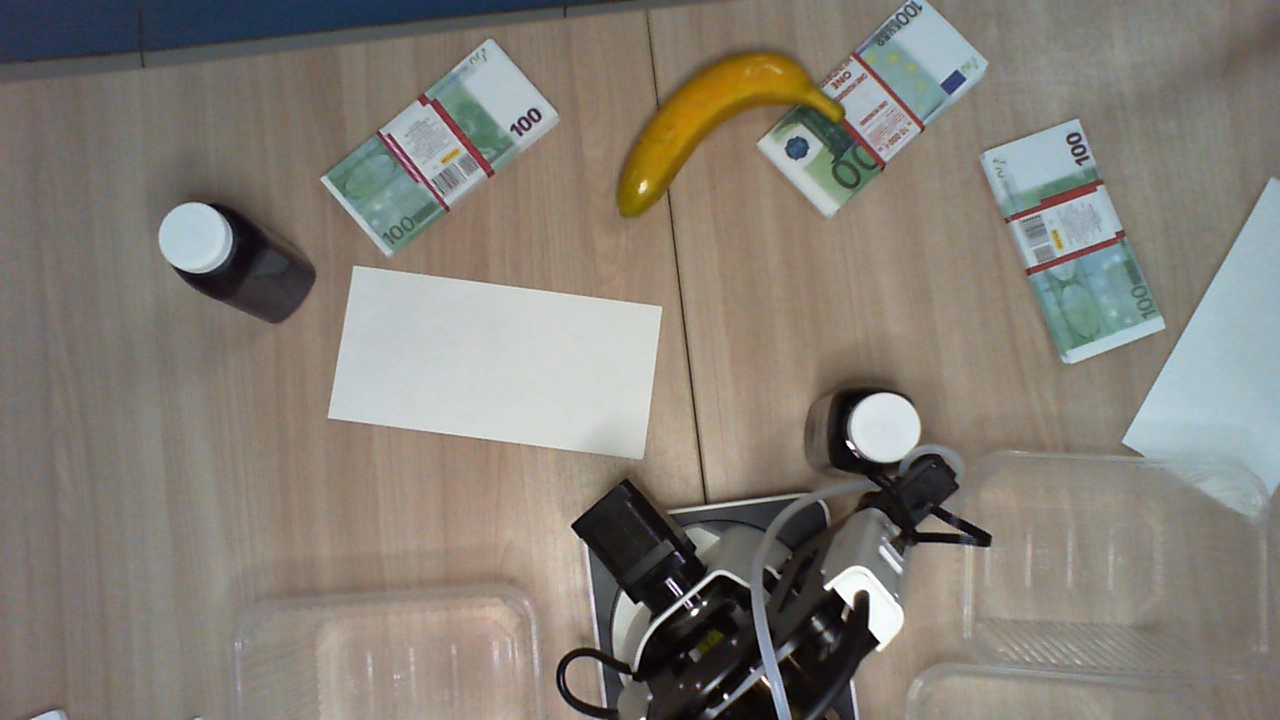banana: (616, 48, 847, 222)
bottle: (158, 199, 260, 298), (828, 385, 922, 473)
convert: (327, 265, 664, 460), (1122, 177, 1280, 517)
money: (318, 36, 562, 256), (755, 1, 988, 221), (983, 119, 1165, 364)
